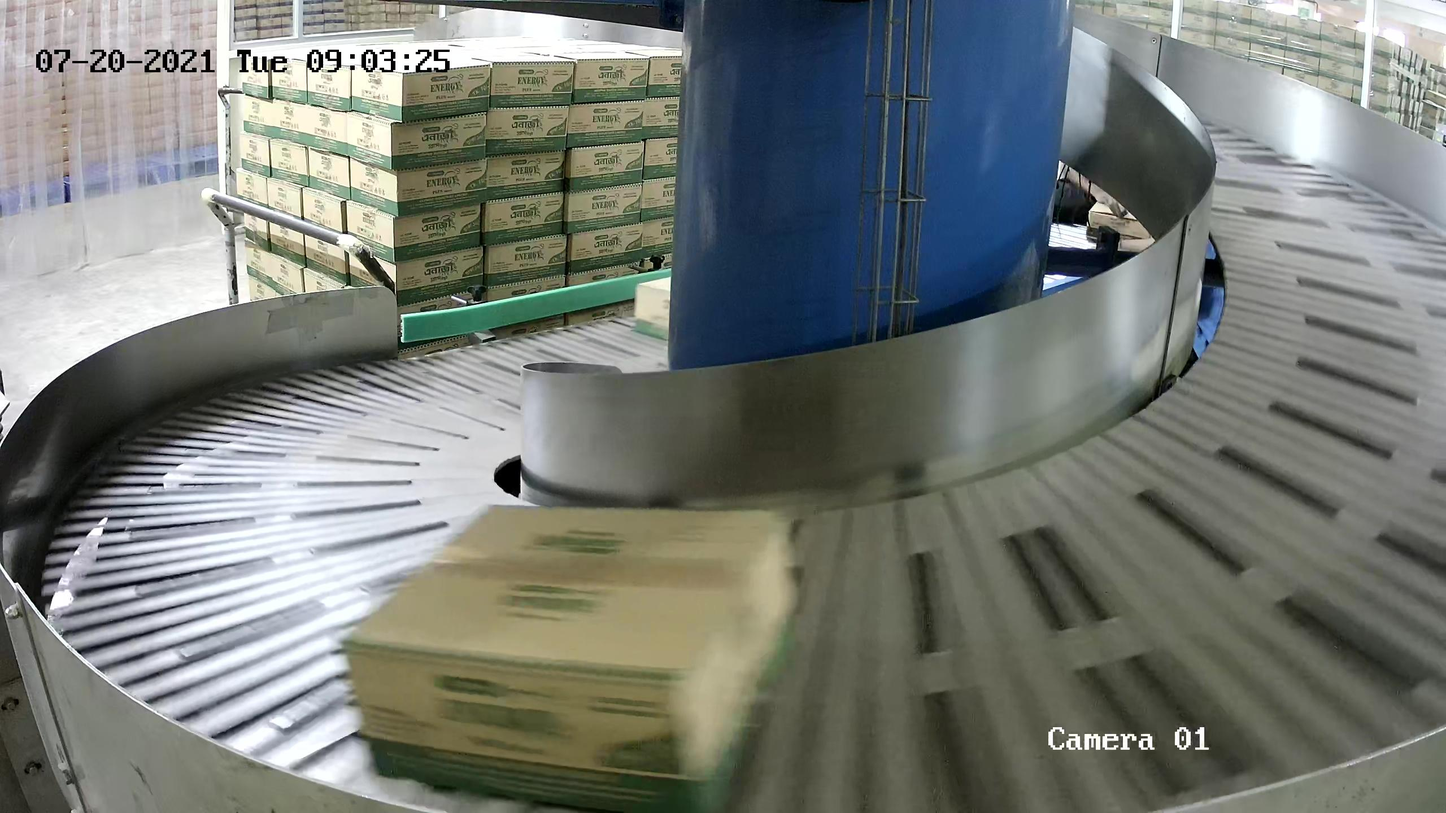Box: (339, 500, 808, 813)
